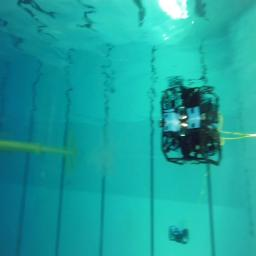front: (162, 122, 222, 166), (168, 226, 189, 245)
